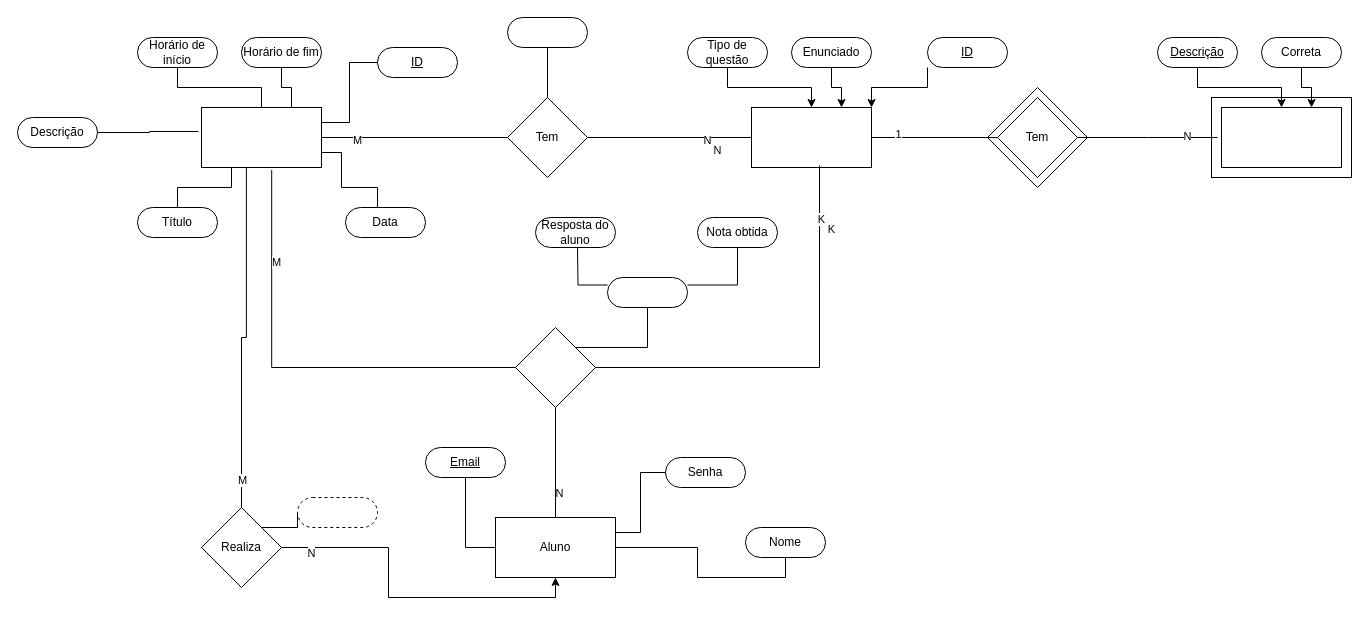
This 1369x623 diagram has some shape labels left out. Each missing label, with the centre of its shape:
"Alternativa" goes at [1281,137].
"Avaliações" goes at [261,137].
"Nota total" goes at [337,512].
"Questão" goes at [811,137].
"Responde" goes at [555,367].
"Resultado" goes at [647,292].
"Valor da questão" goes at [547,32].
